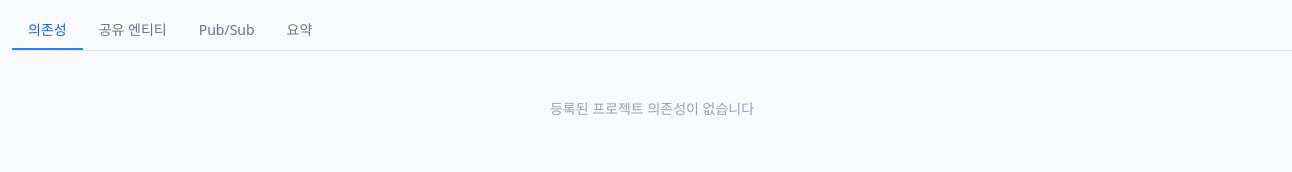
CrossProjectTabs - empty state › should show empty shared entities when clicking shared-entities tab
공유 엔티티 탭 클릭
Click the tab with test id "tab-shared-entities" at (133, 31), box [83,12,183,50]
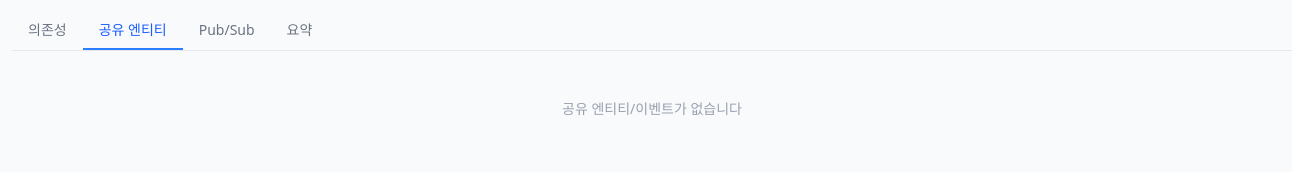
Result: the text "공유 엔티티/이벤트가 없습니다" is shown at [562,99,742,118]
